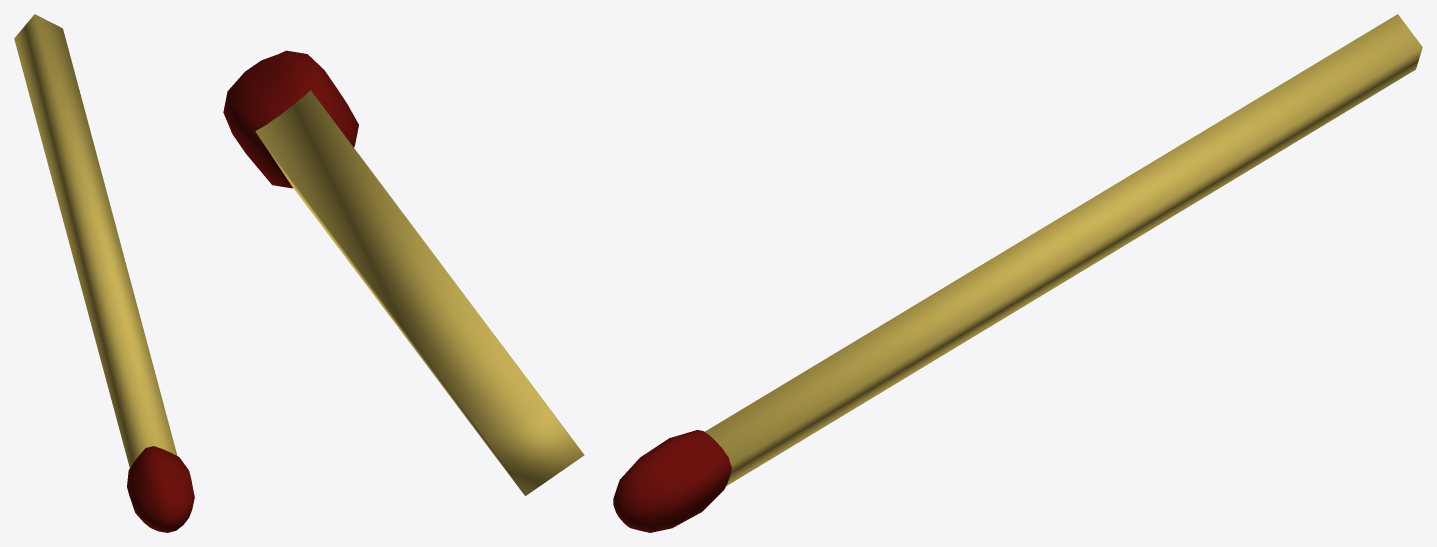
3 renders of one model, left to right at view 1: azimuth 30°, elevation 25°; view 2: azimuth 210°, elevation 25°; view 3: azimuth 330°, elevation 25°, orthographic. The views are drawn at different scales.
Visible parts, largest first — view 1: Sphere.006; view 2: Sphere.006; view 3: Sphere.006.
Part boxes in pixels (x1,y1,x2,y2): Sphere.006: (14, 14, 194, 532); Sphere.006: (223, 50, 584, 495); Sphere.006: (613, 14, 1422, 532).
Size of the model in its own units: 0.2103 by 0.1441 by 0.5.
